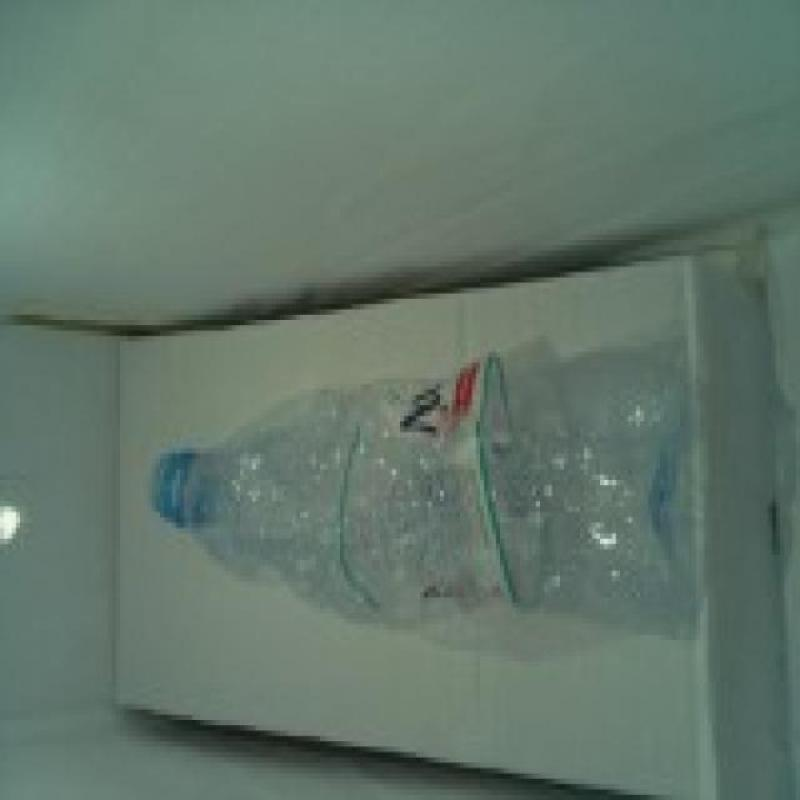botella: (152, 350, 698, 642)
